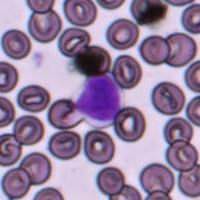L: (74, 75, 123, 126)
